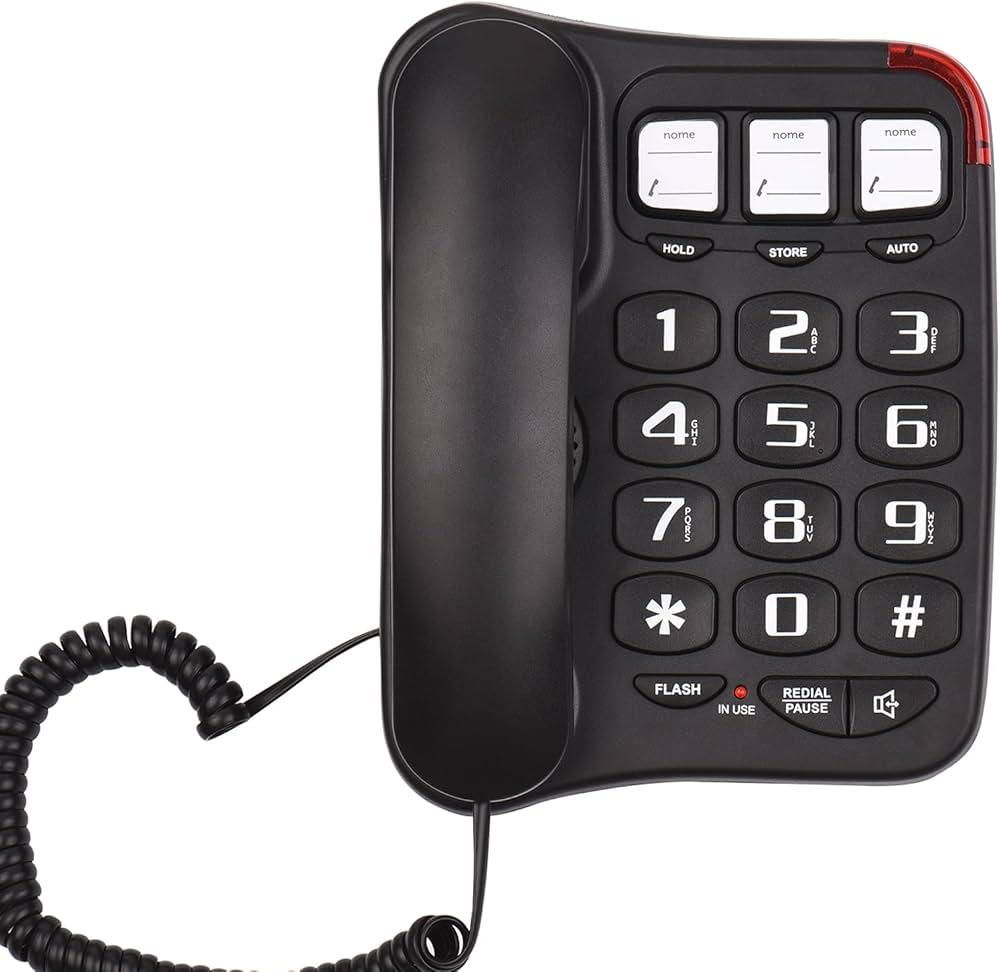Phone: (5, 0, 996, 972)
